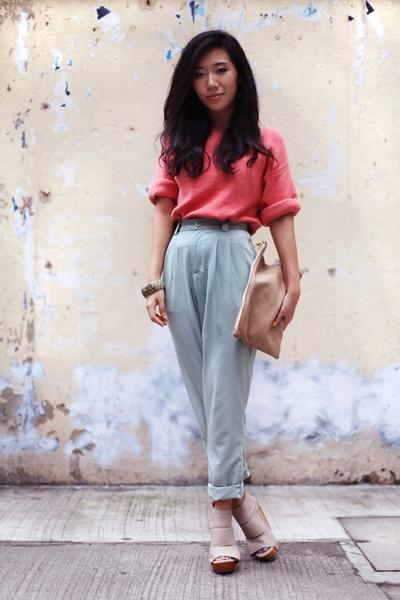trousers: (160, 215, 266, 511)
